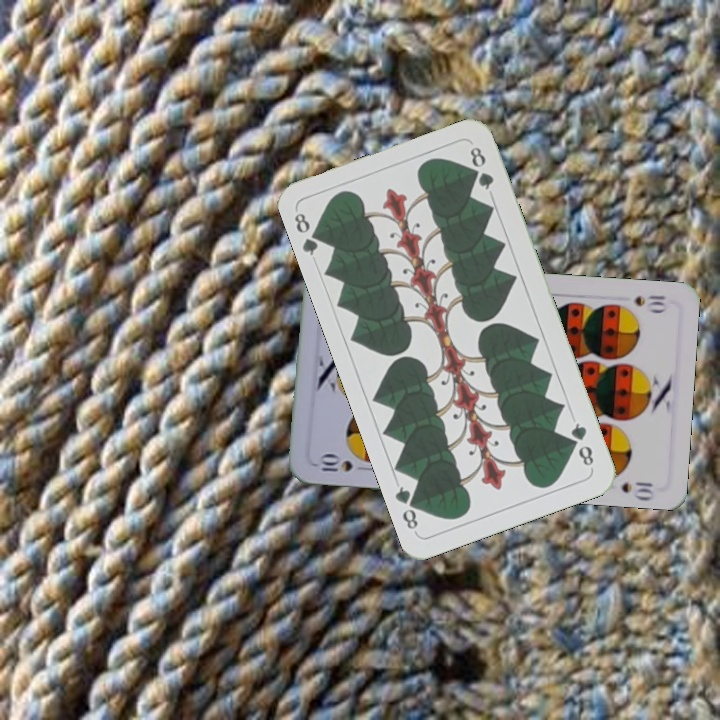G8: (290, 208, 326, 258), (566, 418, 597, 469)
S10: (316, 451, 372, 474), (630, 291, 669, 315)
